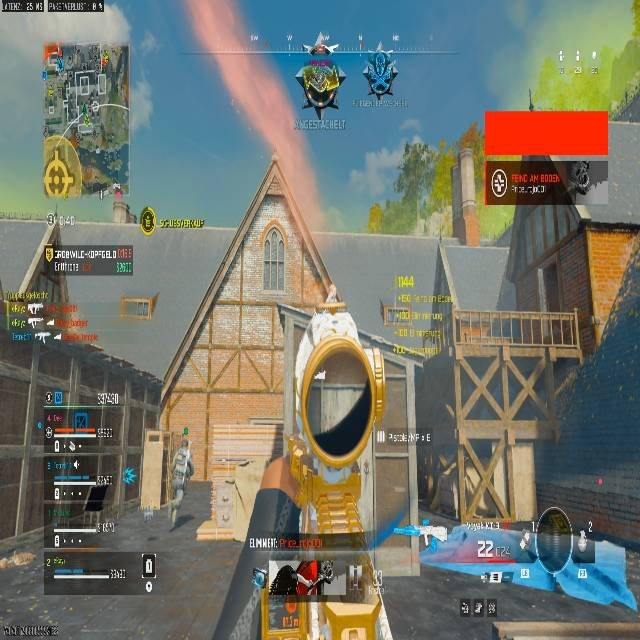head: (373, 53, 387, 68)
player: (297, 59, 345, 113), (362, 54, 398, 98)
